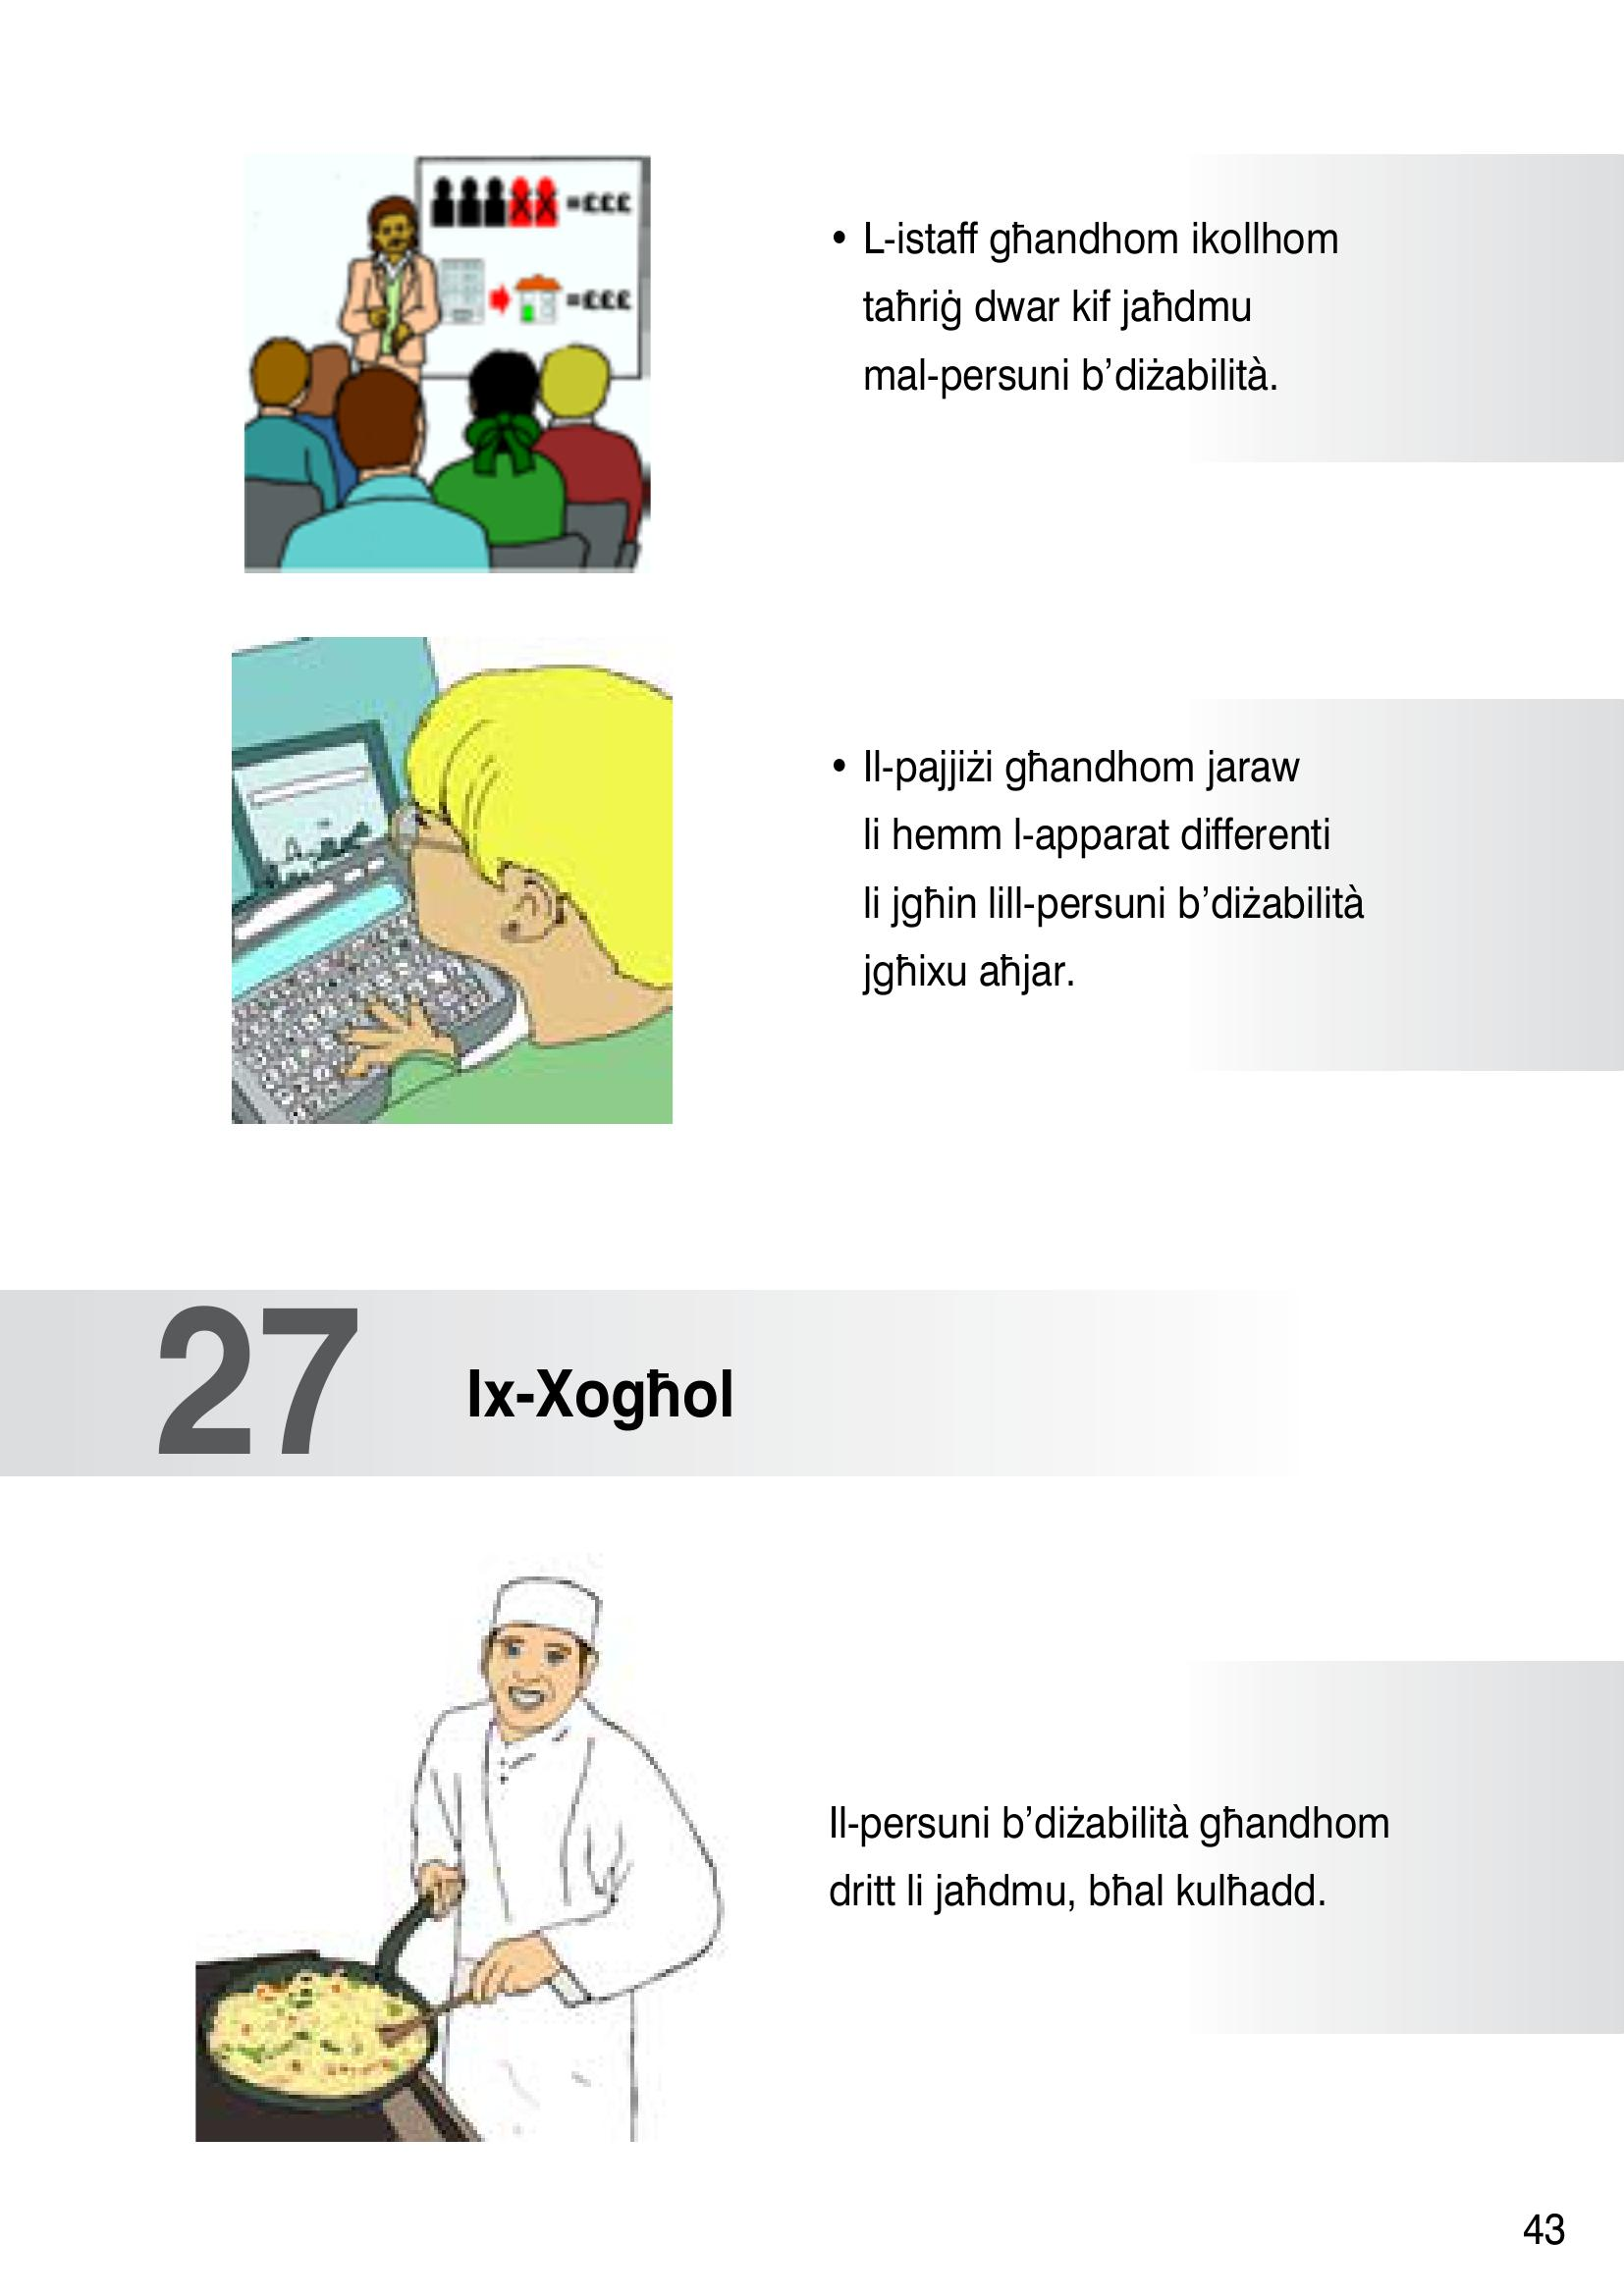text: (793, 179, 1385, 1052), (144, 1291, 763, 1472), (791, 1781, 1410, 1946)
